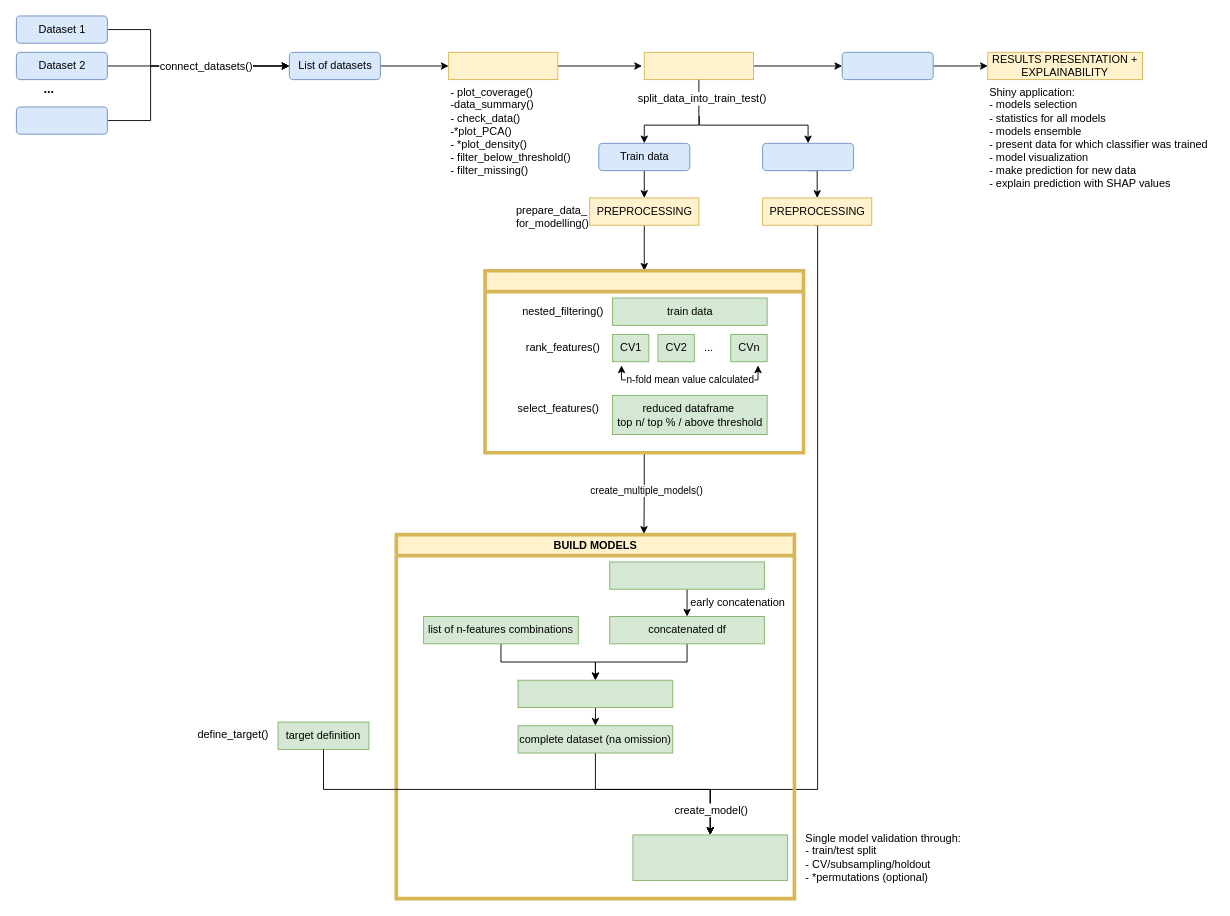
The diagram is 1230 pixels wide and 916 high, and some of its shapes have lost their labels. Here are the shapes that lost their labels. From the top down, the box of each, then its label:
(448, 51, 558, 80): EXPLORATION / QC
(643, 51, 753, 80): MODELLING
(841, 51, 933, 80): Logged models
(15, 106, 107, 134): Dataset n
(762, 142, 854, 171): Test data
(483, 268, 805, 454): FEATURE SELECTION
(609, 561, 764, 589): list of reduced dataframes
(517, 679, 673, 708): selected features for single model
(632, 834, 788, 880): logistic regression modelling, validation, explanation & logging
